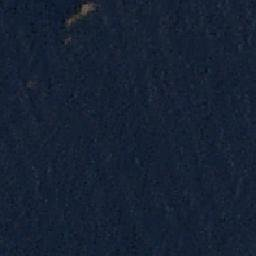debris: (79, 3, 95, 15), (67, 16, 77, 27), (63, 35, 70, 45)
